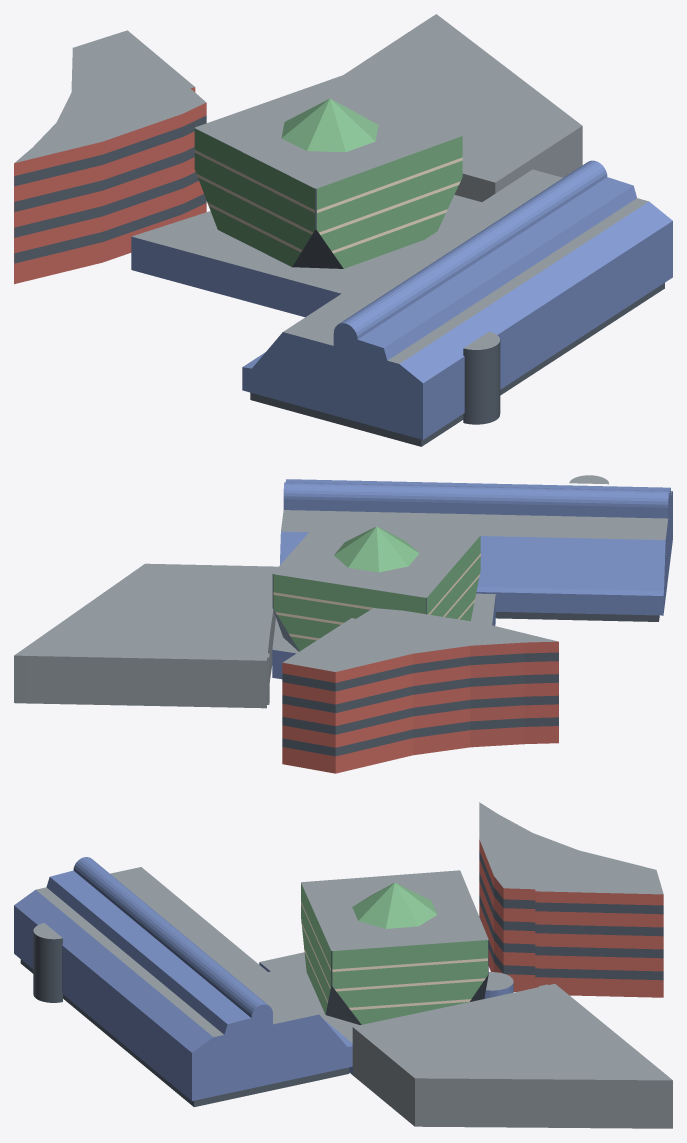
File: detail.glb
3 views of the same model, one above another, from view 1: azimuth 30°, elevation 25°; view 2: azimuth 150°, elevation 25°; view 3: azimuth 270°, elevation 25° (orthographic). The views are drawn at different scales.
Visible parts, largest first — view 1: pacific-design-center; view 2: pacific-design-center; view 3: pacific-design-center.
Part boxes in pixels (<box>): pacific-design-center: <box>14,14,672,446</box>; pacific-design-center: <box>14,475,672,773</box>; pacific-design-center: <box>14,802,672,1128</box>.
Size of the model in its own units: 218 by 61 by 272.
